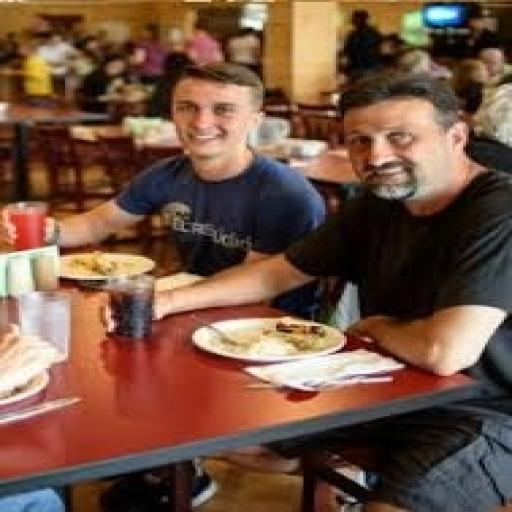eating: (0, 57, 509, 510)
